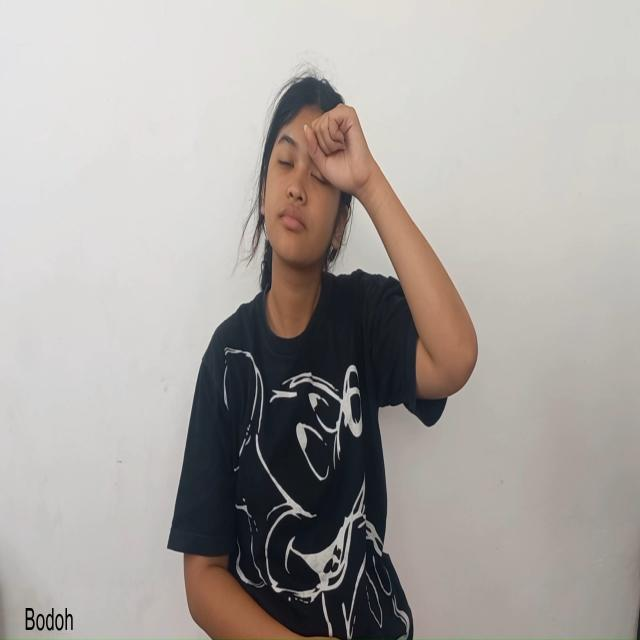Bodoh -BISINDO-: (227, 62, 444, 354)
